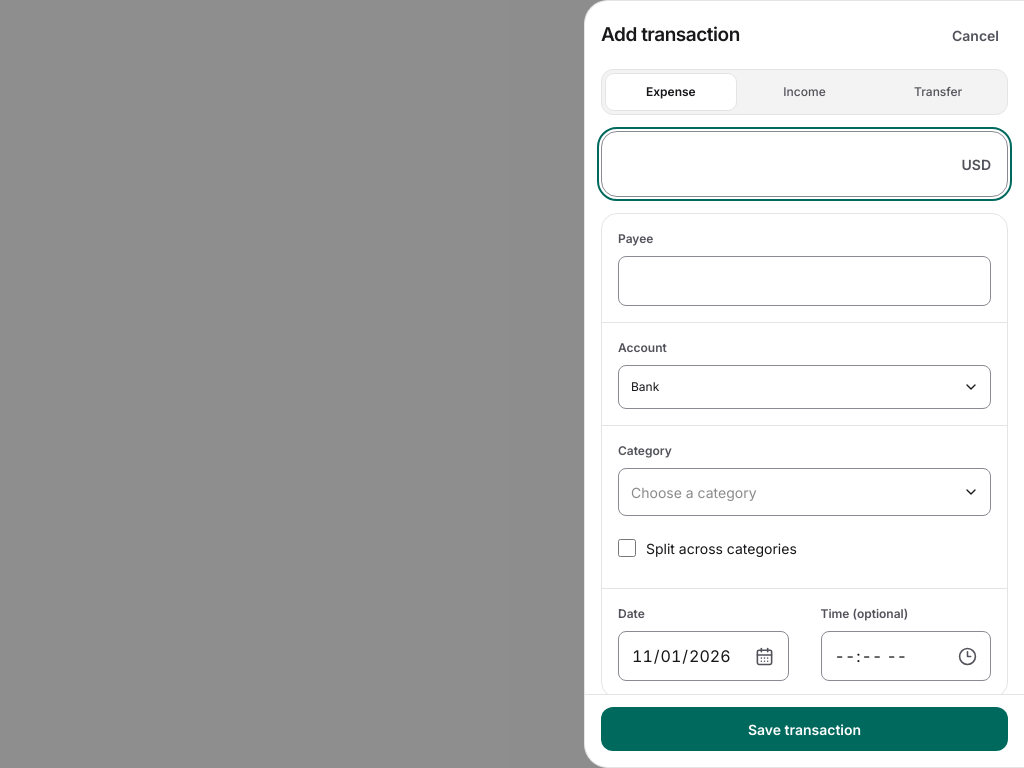
Test case: creates a category from the Category field and replays an uncertain one before another write
Type "Coffee" into the dropdown labelled "Category". click: (804, 492)
box: [618,468,991,516]
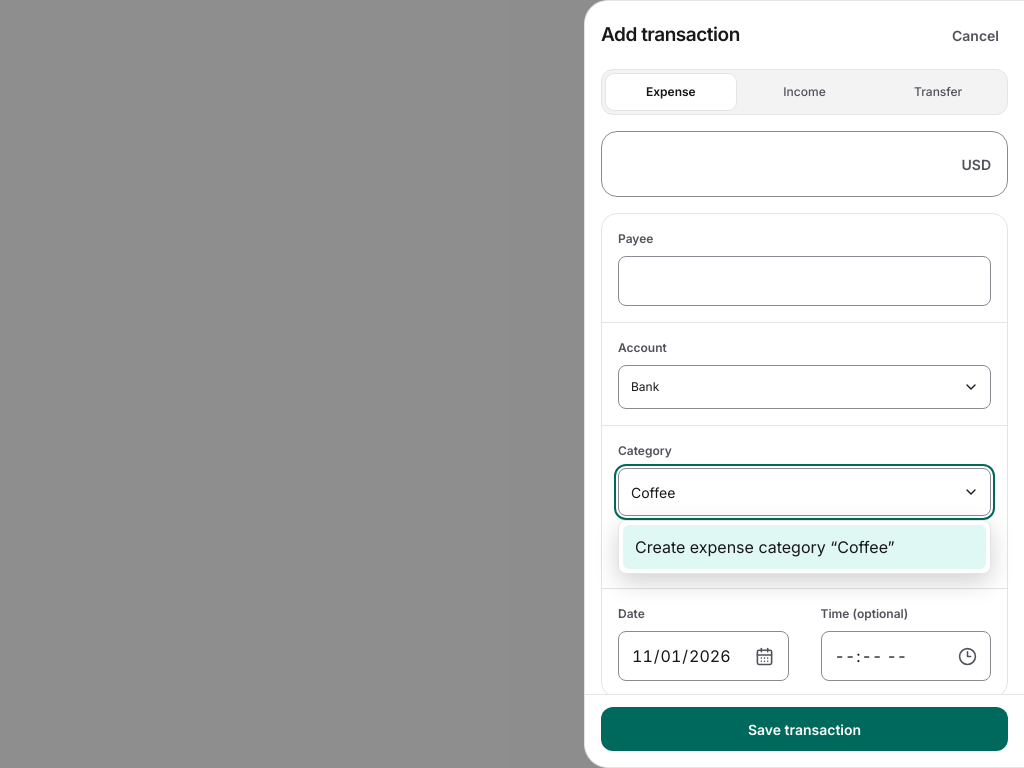
Click the option "Create expense category “Coffee”". click: (804, 547)
box: [623,525,986,569]
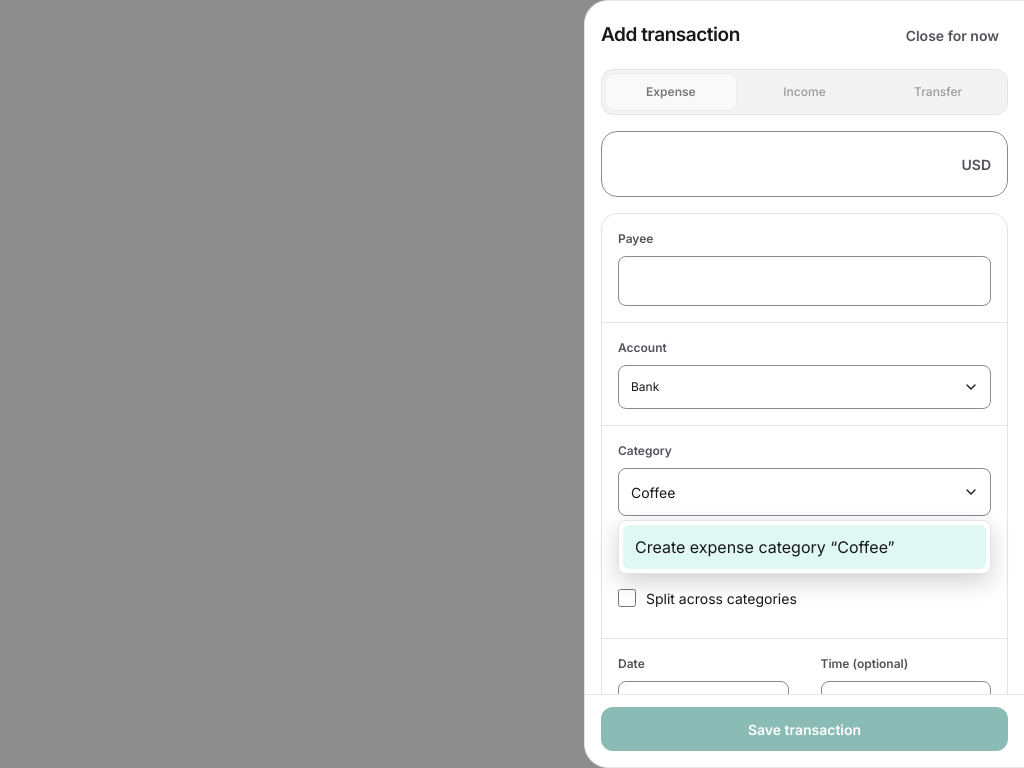
Check: the text "We couldn't confirm the category. Choose it again to retry." is shown, box [618,524,991,566]
Check: the button "Save transaction" is disabled, box [601,707,1008,751]
Click the option "Create expense category “Coffee”". click: (804, 547)
box: [623,525,986,569]
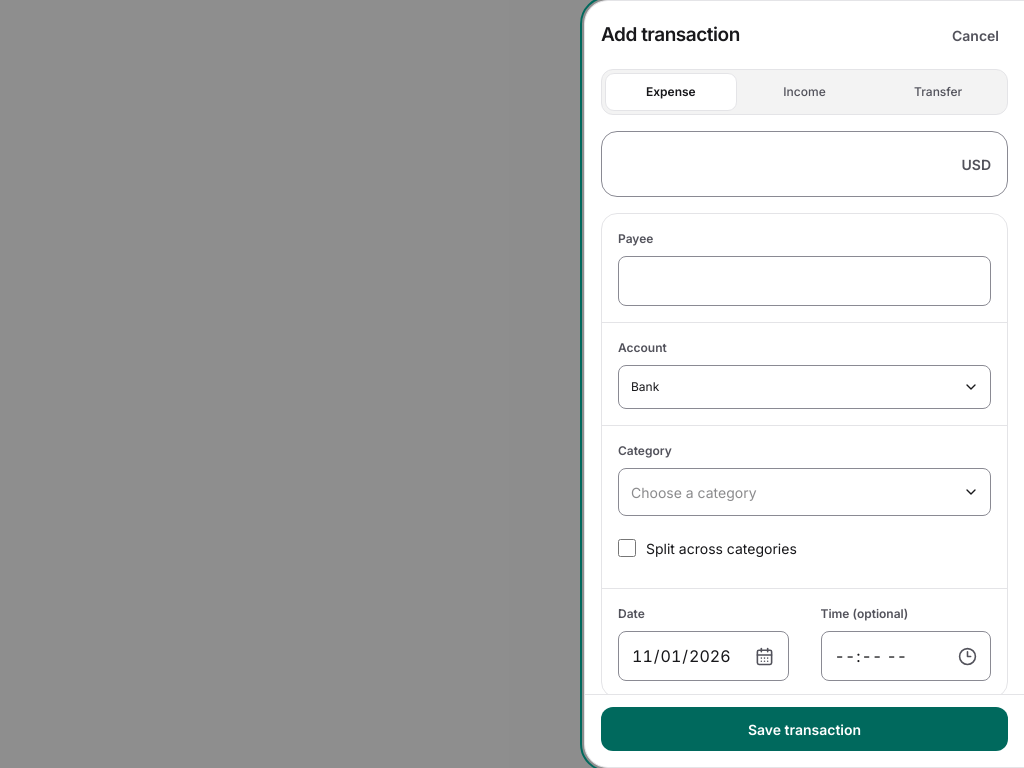
Check: the button "Save transaction" is enabled, box [601,707,1008,751]
